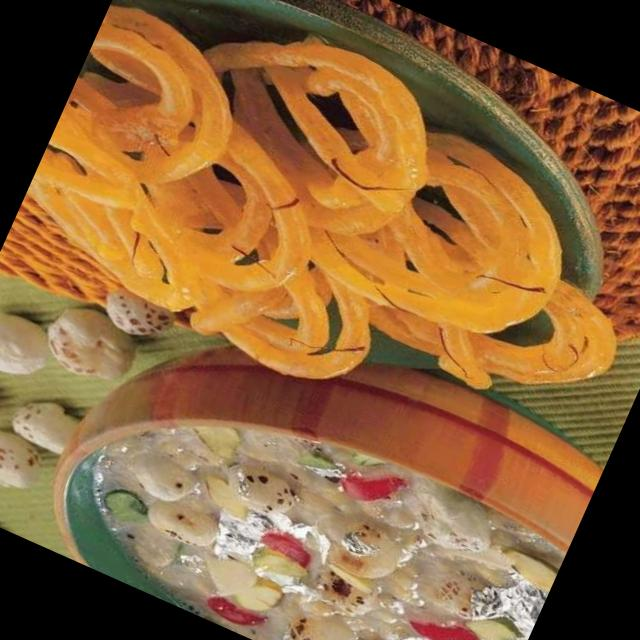jalebi: (22, 0, 640, 514)
